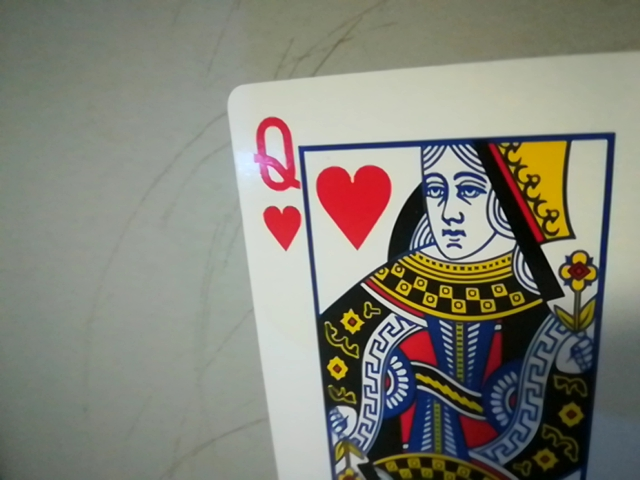hx q: (244, 102, 307, 255)
